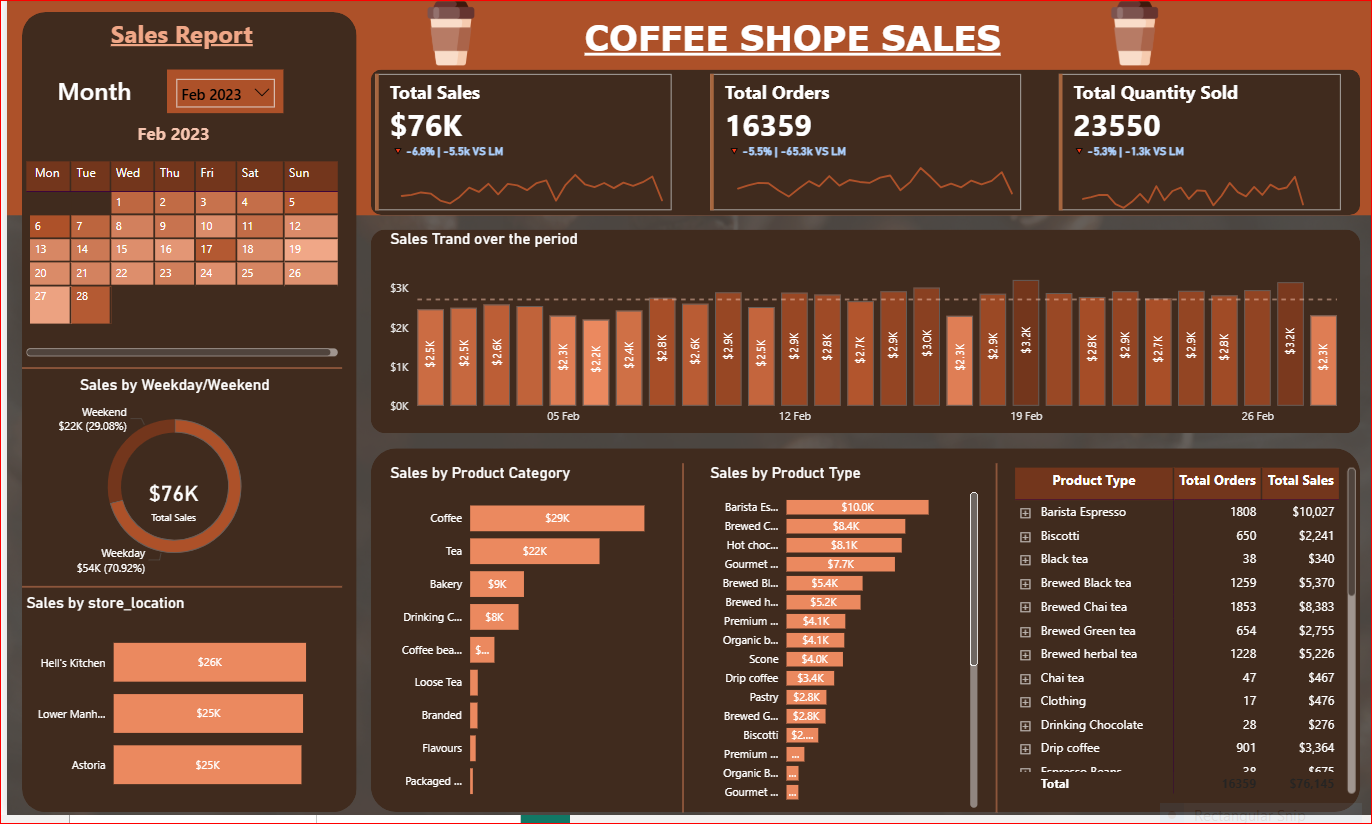

The dashboard page shown, as its layout file describes it:
{"tool":"powerbi","page":{"name":"Coffe sales dashboard","canvas":[1500,900],"ordinal":0},"visuals":[{"type":"shape","box":[-4,0,1504,240],"z":0},{"type":"shape","box":[16,16,368,880],"z":1000},{"type":"shape","box":[400,80,1088,160],"z":2000},{"type":"textbox","box":[528,16,672,64],"z":3000},{"type":"slicer","fields":{"Values":["Date Table.Month Year"]},"box":[176,80,128,48],"z":4000},{"type":"cardVisual","fields":{"Data":["Transactions.Total Sales"]},"box":[400,80,336,160],"z":4000,"group":"g1"},{"type":"cardVisual","fields":{"Data":["Transactions.Total Orders"]},"box":[768,80,352,160],"z":4000,"group":"g2"},{"type":"cardVisual","fields":{"Data":["Transactions.Total Quantity Sold"]},"box":[1152,80,320,160],"z":4000,"group":"g3"},{"type":"group","id":"g1","title":"Group 1","box":[400,80,352,160],"z":5000},{"type":"group","id":"g2","title":"Group 1","box":[768,80,352,160],"z":6000},{"type":"lineChart","fields":{"Y":["Transactions.Total Sales"],"Category":["Date Table.Date.Variation.Date Hierarchy.Year","Date Table.Date.Variation.Date Hierarchy.Quarter","Date Table.Date.Variation.Date Hierarchy.Month","Date Table.Date.Variation.Date Hierarchy.Day"]},"box":[419.8,160,316.2,80],"z":6000,"group":"g1"},{"type":"lineChart","fields":{"Category":["Date Table.Date.Variation.Date Hierarchy.Year","Date Table.Date.Variation.Date Hierarchy.Quarter","Date Table.Date.Variation.Date Hierarchy.Month","Date Table.Date.Variation.Date Hierarchy.Day"],"Y":["Transactions.Total Orders"]},"box":[788.7,160,331.3,80],"z":6000,"group":"g2"},{"type":"lineChart","fields":{"Category":["Date Table.Date.Variation.Date Hierarchy.Year","Date Table.Date.Variation.Date Hierarchy.Quarter","Date Table.Date.Variation.Date Hierarchy.Month","Date Table.Date.Variation.Date Hierarchy.Day"],"Y":["Transactions.Total Quantity Sold"]},"box":[1168,160,272,80],"z":6000,"group":"g3"},{"type":"group","id":"g3","title":"Group 1","box":[1152,80,320,160],"z":7000},{"type":"pivotTable","fields":{"Rows":["Date Table.Week Number"],"Columns":["Date Table.Day Name"],"Values":["Min(Date Table.Day number)"]},"box":[16,176,352,224],"z":8000},{"type":"card","fields":{"Values":["Min(Date Table.Month Year)"]},"box":[112,128,144,48],"z":9000},{"type":"shape","box":[16,400,352,16],"z":10000},{"type":"donutChart","title":"Sales by Weekday/Weekend","fields":{"Category":["Date Table.Weekday/Weekend"],"Y":["Transactions.Total Sales"]},"box":[16,416,336,224],"z":11000},{"type":"card","fields":{"Values":["Transactions.Total Sales"]},"box":[112,496,144,112],"z":12000},{"type":"shape","box":[16,640,352,16],"z":13000},{"type":"barChart","title":"Sales by store_location","fields":{"Category":["Transactions.store_location"],"Y":["Transactions.Total Sales"]},"box":[16,656,352,240],"z":14000},{"type":"shape","box":[400,256,1088,224],"z":15000},{"type":"shape","box":[400,496,1088,400],"z":16000},{"type":"clusteredColumnChart","title":" Sales Trand over the period","fields":{"Y":["Transactions.Total Sales"],"Category":["Transactions.transaction_date"]},"box":[416,256,1056,224],"z":17000},{"type":"barChart","title":"Sales by Product Category","fields":{"Category":["Transactions.product_category"],"Y":["Transactions.Total Sales"]},"box":[416,512,320,384],"z":18000},{"type":"shape","box":[736,512,16,384],"z":19000},{"type":"barChart","title":"Sales by Product Type","fields":{"Y":["Transactions.Total Sales"],"Category":["Transactions.product_type"]},"box":[768,512,304,384],"z":20000},{"type":"textbox","box":[48,80,96,48],"z":21000},{"type":"textbox","box":[96,16,192,64],"z":22000},{"type":"pivotTable","fields":{"Rows":["Transactions.product_type","Transactions.product_category"],"Values":["Transactions.Total Orders","Transactions.Total Sales"]},"box":[1104,512,384,368],"z":25000},{"type":"shape","box":[1072,512,32,384],"z":26000},{"type":"image","box":[528,0,112,80],"z":26001}]}

Visuals, with their boxes in screenshot pixels (x1, y1, x2, y2), scaled from the page's 1500x900 canvas onto the 1372x824 screenshot:
shape: bbox=[0, 0, 1371, 220]
shape: bbox=[15, 15, 351, 820]
shape: bbox=[366, 73, 1361, 220]
textbox: bbox=[483, 15, 1098, 73]
slicer - Date Table.Month Year: bbox=[161, 73, 278, 117]
cardVisual - Transactions.Total Sales: bbox=[366, 73, 673, 220]
cardVisual - Transactions.Total Orders: bbox=[702, 73, 1024, 220]
cardVisual - Transactions.Total Quantity Sold: bbox=[1054, 73, 1346, 220]
"Group 1" group: bbox=[366, 73, 688, 220]
"Group 1" group: bbox=[702, 73, 1024, 220]
lineChart - Transactions.Total Sales x Date Table.Date.Variation.Date Hierarchy.Year: bbox=[384, 146, 673, 220]
lineChart - Date Table.Date.Variation.Date Hierarchy.Year x Date Table.Date.Variation.Date Hierarchy.Quarter: bbox=[721, 146, 1024, 220]
lineChart - Date Table.Date.Variation.Date Hierarchy.Year x Date Table.Date.Variation.Date Hierarchy.Quarter: bbox=[1068, 146, 1317, 220]
"Group 1" group: bbox=[1054, 73, 1346, 220]
pivotTable - Date Table.Week Number x Date Table.Day Name: bbox=[15, 161, 337, 366]
card - Min(Date Table.Month Year): bbox=[102, 117, 234, 161]
shape: bbox=[15, 366, 337, 381]
"Sales by Weekday/Weekend" donutChart: bbox=[15, 381, 322, 586]
card - Transactions.Total Sales: bbox=[102, 454, 234, 557]
shape: bbox=[15, 586, 337, 601]
"Sales by store_location" barChart: bbox=[15, 601, 337, 820]
shape: bbox=[366, 234, 1361, 439]
shape: bbox=[366, 454, 1361, 820]
" Sales Trand over the period" clusteredColumnChart: bbox=[381, 234, 1346, 439]
"Sales by Product Category" barChart: bbox=[381, 469, 673, 820]
shape: bbox=[673, 469, 688, 820]
"Sales by Product Type" barChart: bbox=[702, 469, 981, 820]
textbox: bbox=[44, 73, 132, 117]
textbox: bbox=[88, 15, 263, 73]
pivotTable - Transactions.product_type x Transactions.product_category: bbox=[1010, 469, 1361, 806]
shape: bbox=[981, 469, 1010, 820]
image: bbox=[483, 0, 585, 73]
